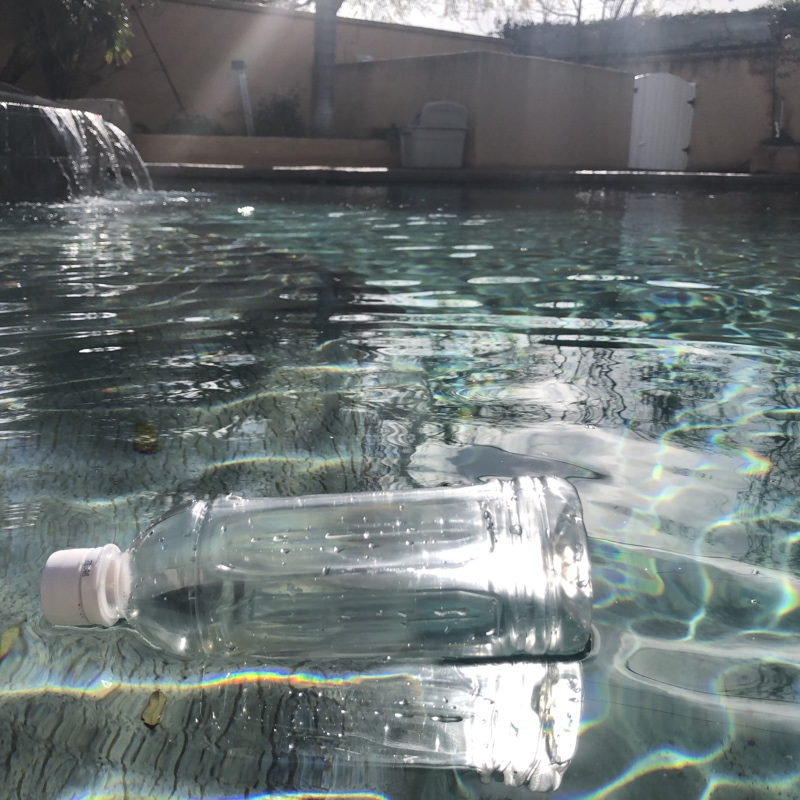Plastic Bottle: (34, 466, 598, 675)
